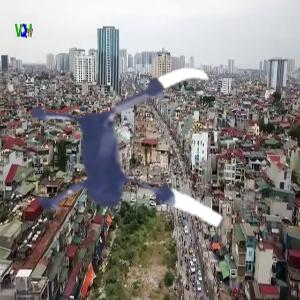drone: (1, 38, 251, 288)
